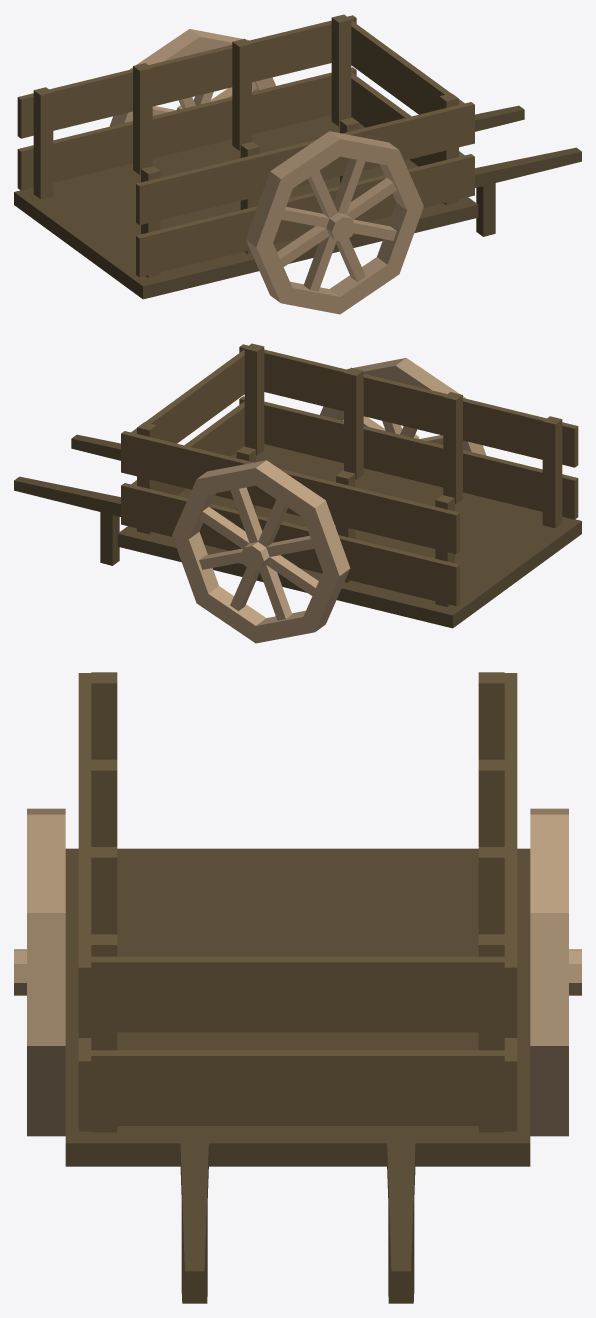
The model's file is roman_cart.fbx.
3 views of the same model, one above another, from view 1: azimuth 30°, elevation 25°; view 2: azimuth 150°, elevation 25°; view 3: azimuth 270°, elevation 25° (orthographic). The views are drawn at different scales.
Visible parts, largest first — view 1: Cube.054, Cylinder.031, Cylinder.032; view 2: Cube.054, Cylinder.032, Cylinder.031; view 3: Cube.054, Cylinder.032, Cylinder.031.
Boxes of the visible parts, x1,y1,x2,y2 form: Cube.054: (14, 14, 581, 299); Cylinder.031: (245, 131, 423, 314); Cylinder.032: (109, 29, 275, 126); Cube.054: (14, 343, 581, 628); Cylinder.032: (172, 460, 350, 643); Cylinder.031: (320, 358, 486, 455); Cube.054: (65, 672, 530, 1303); Cylinder.032: (530, 808, 581, 1136); Cylinder.031: (14, 808, 65, 1136).
Size of the model in its own units: 3.8 by 1.35 by 2.2.
